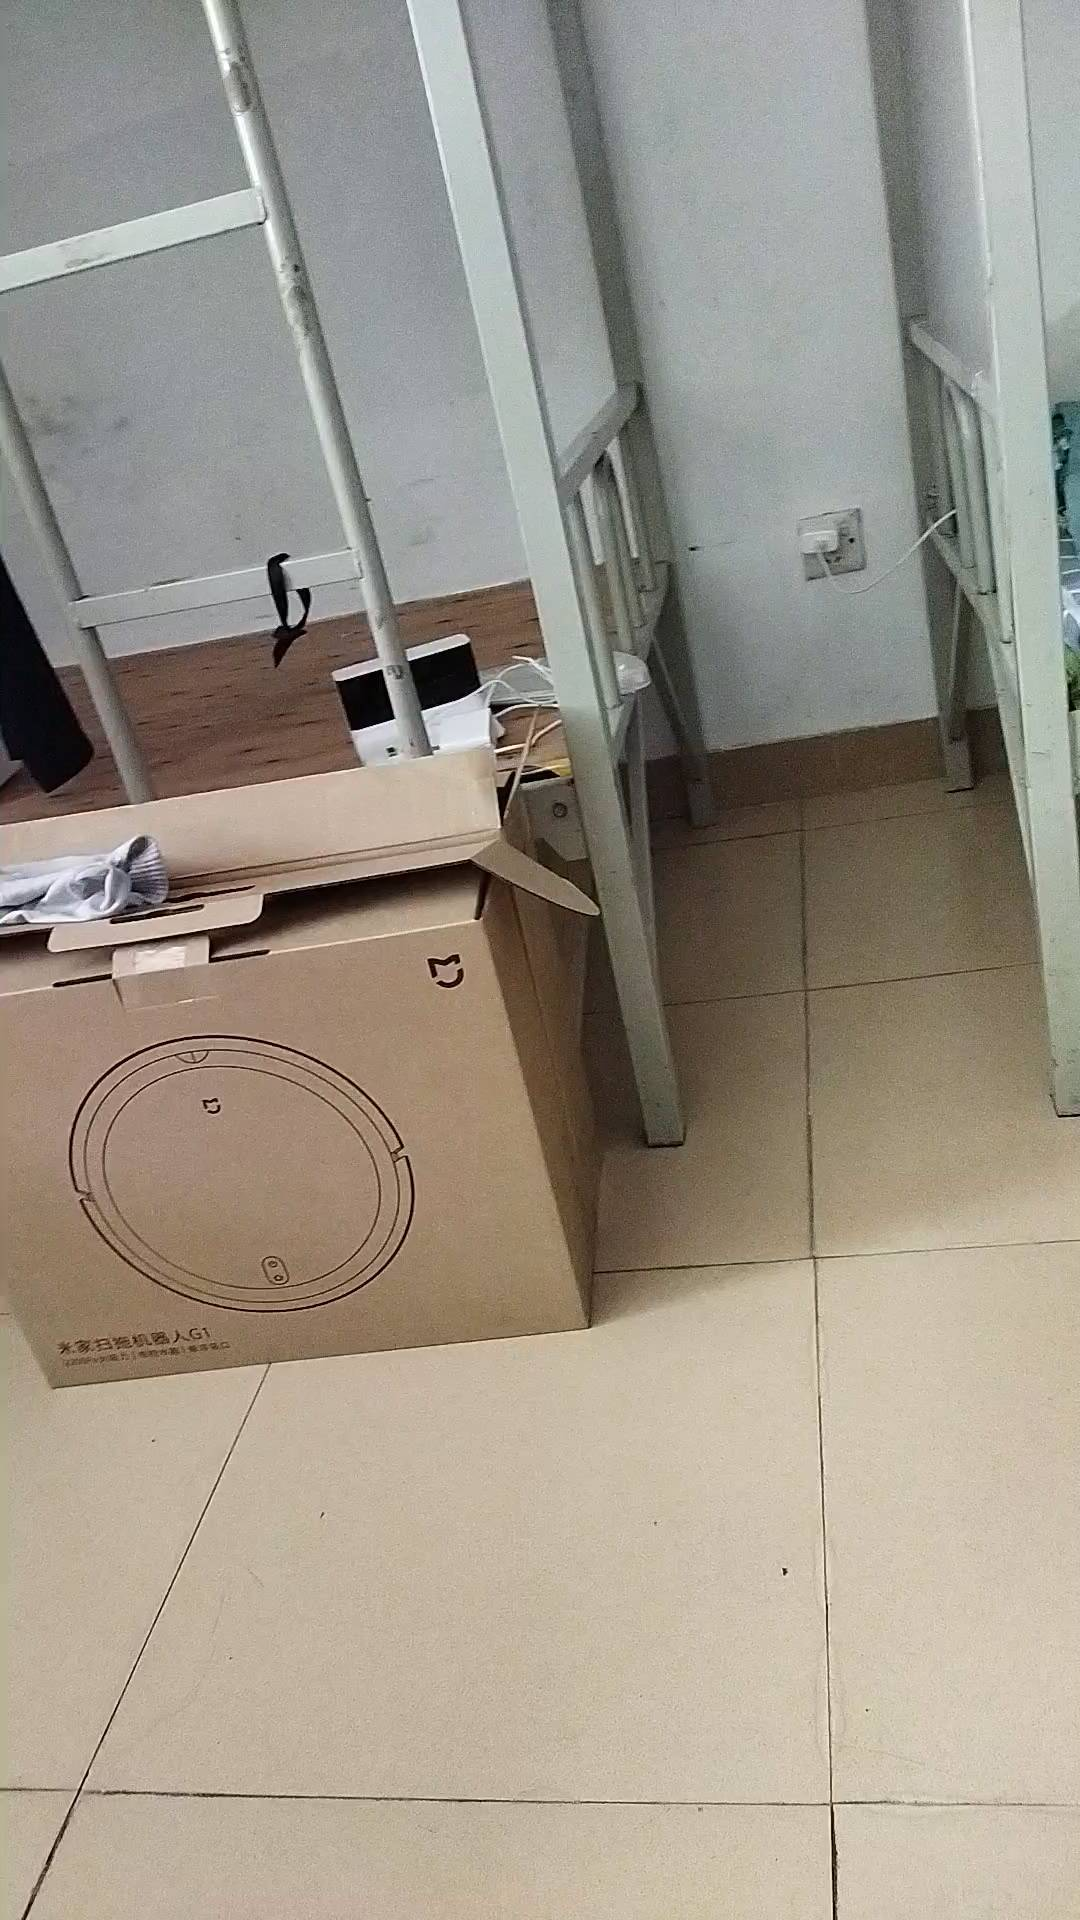recharge seat: (334, 636, 512, 764)
